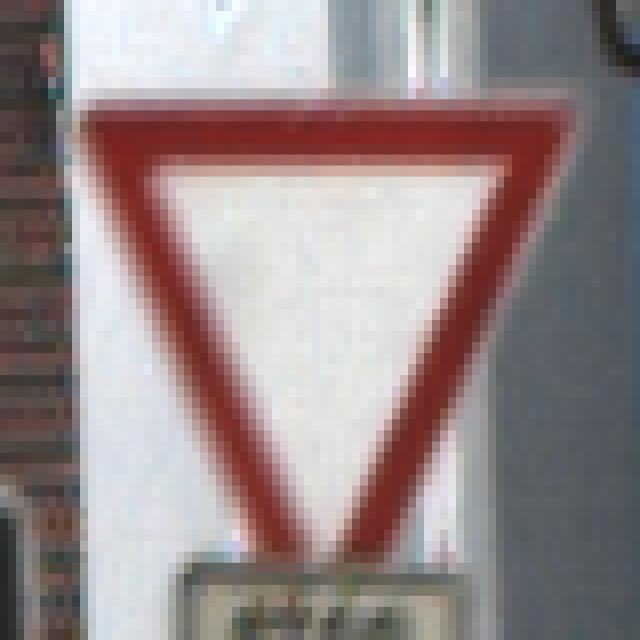Give Way: (57, 67, 585, 586)
